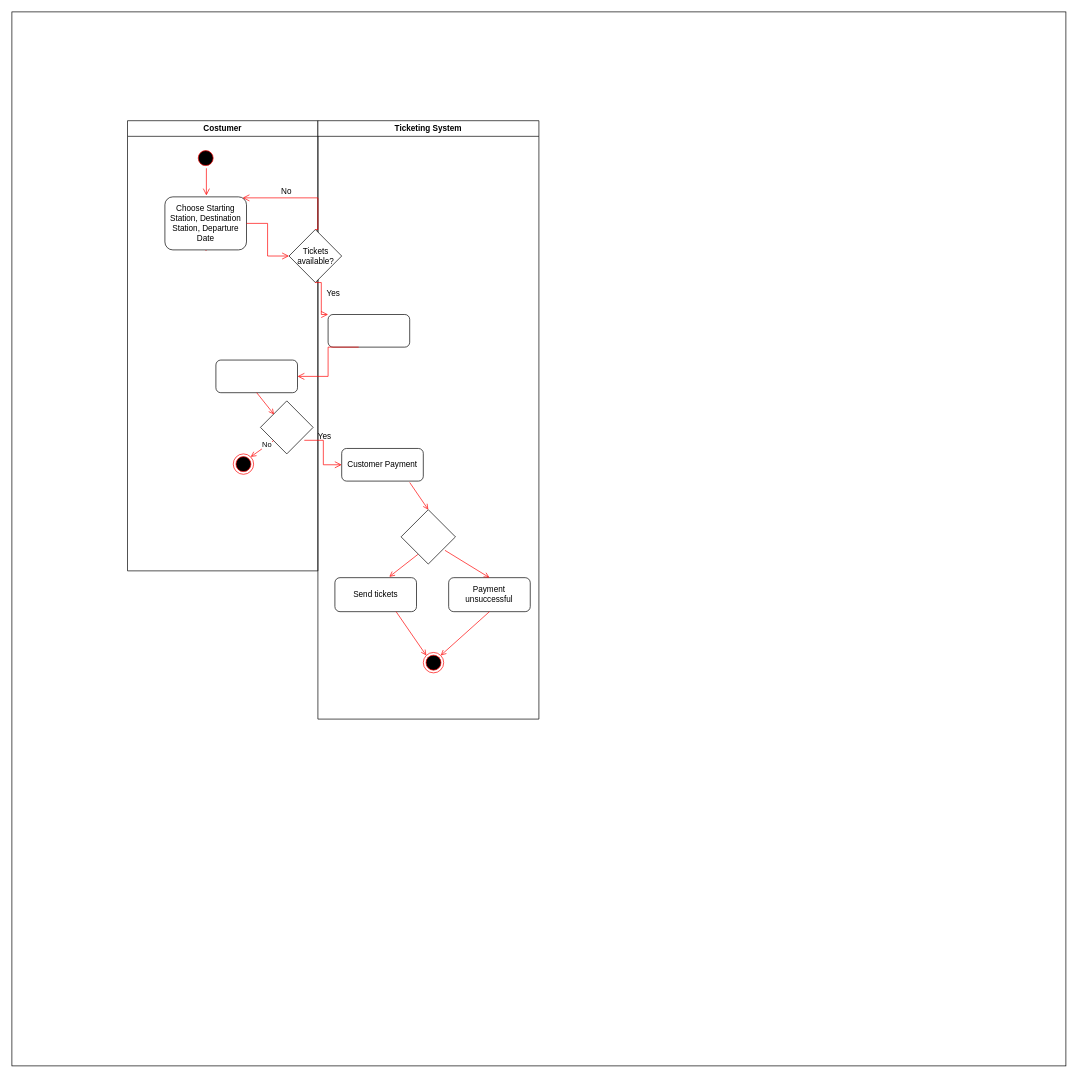
Some shapes in this 1078 by 1078 pixel diagram are drawn without their labels. The centre of each missing label's shape, as x and y in pixels:
"Buy?" goes at [286,427].
"Calculate Total Price with the Distance" goes at [368,330].
"Decide to buy or not" goes at [256,376].
"Successful?" goes at [427,536].
